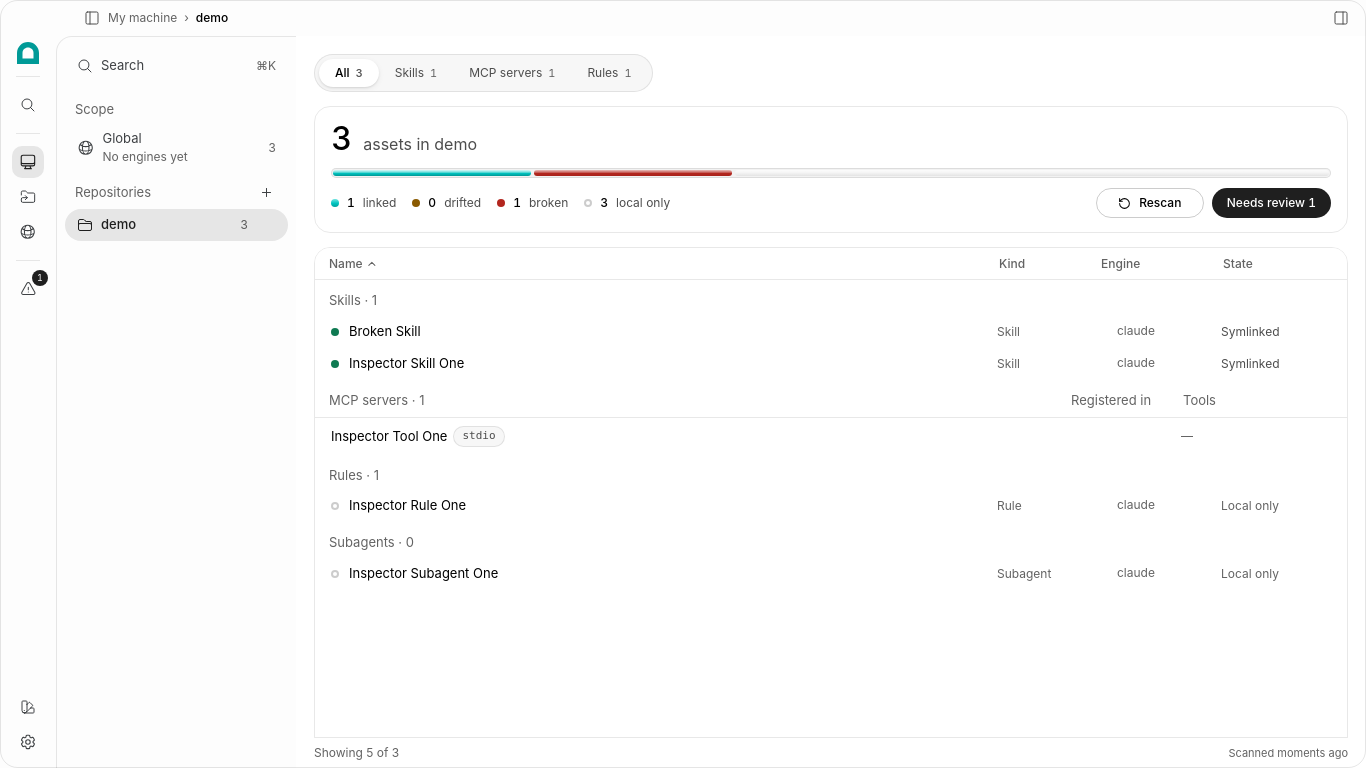
Test: Avionics A5 — Docked Right Inspector Integration › 1. Toggle opens and closes the inspector
Expected: the text "Inspector Skill One" is shown, [349,354,464,373]
Expected: the text "Nothing selected" is not shown
Click inspector toggle in header toolbar
Step 1. Click the button named "Toggle inspector" → click(1340, 18), box [1327,4,1354,32]
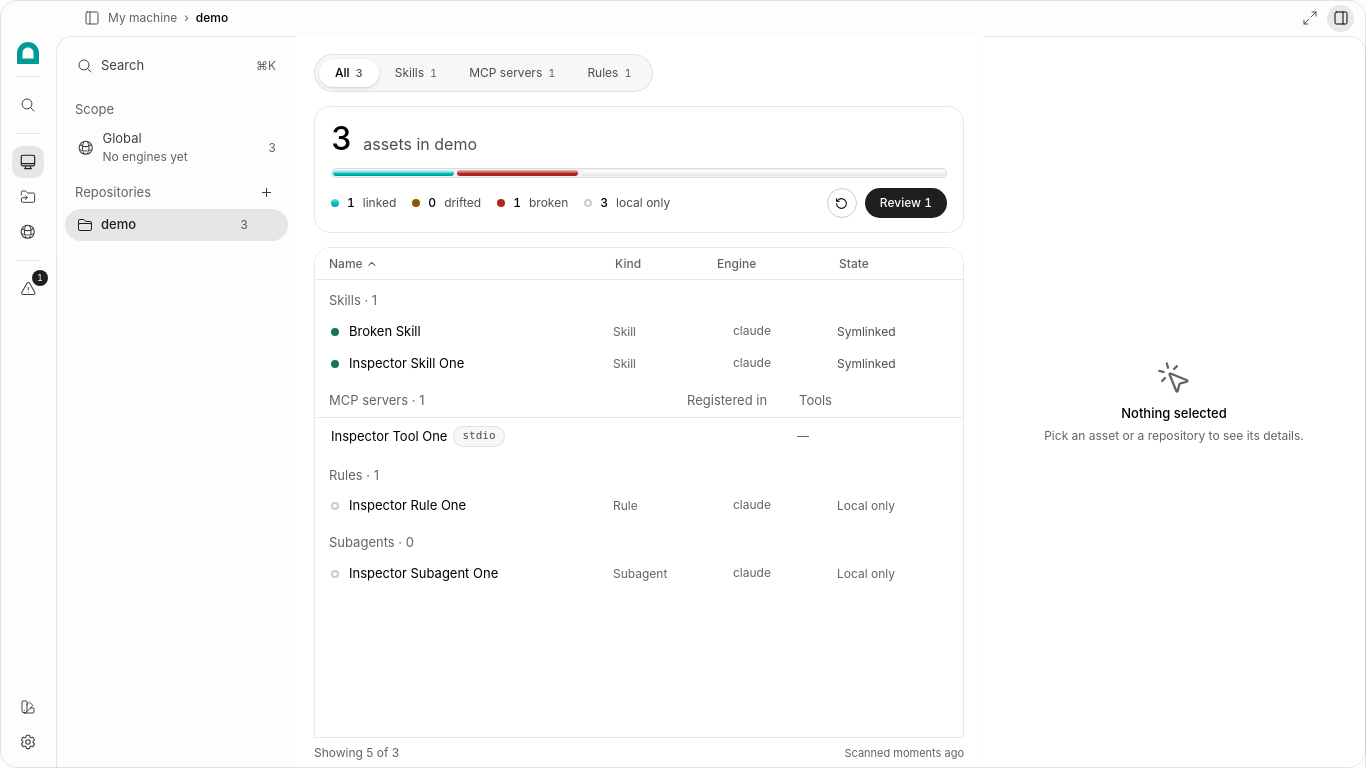
Now the text "Nothing selected" is shown, box [1121,404,1227,424]
Step 2. Click the button named "Toggle inspector" → click(1340, 18), box [1327,4,1354,32]
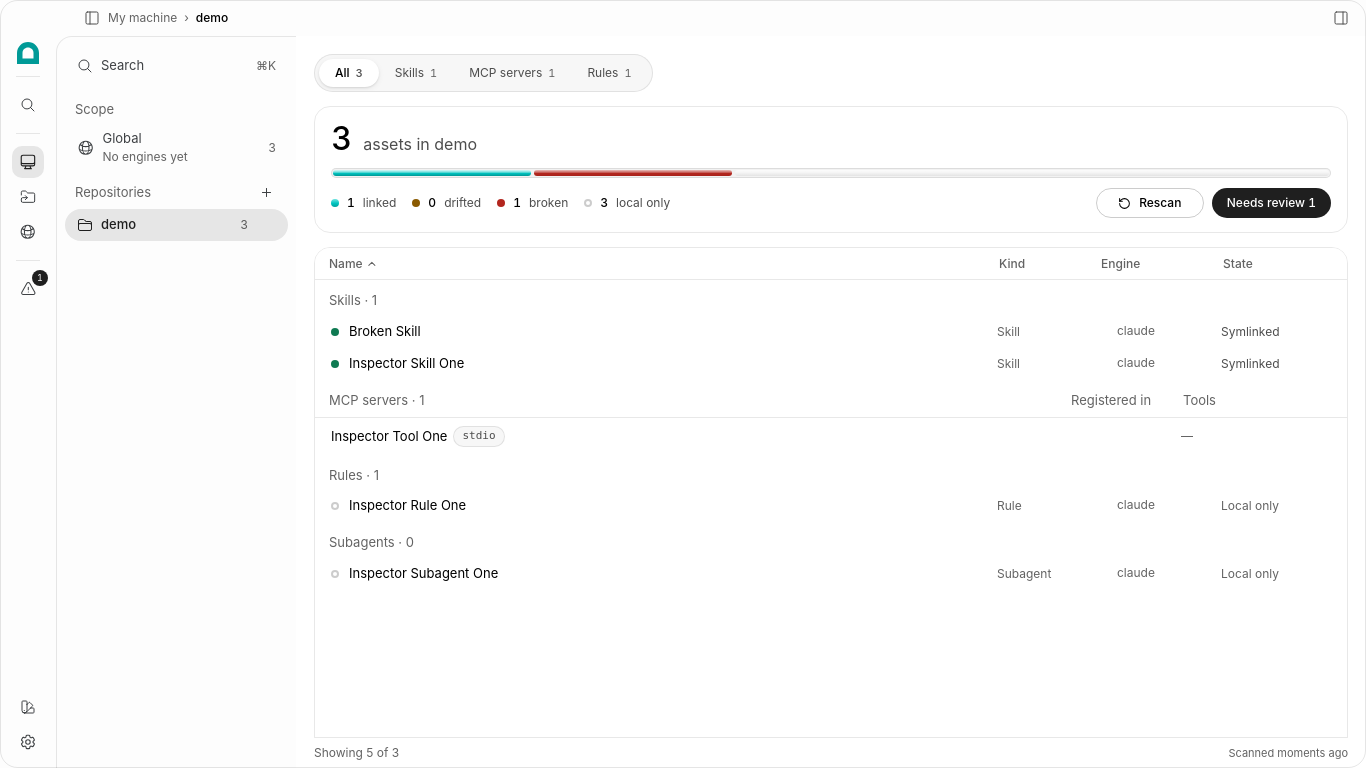
Now the text "Nothing selected" is gone
